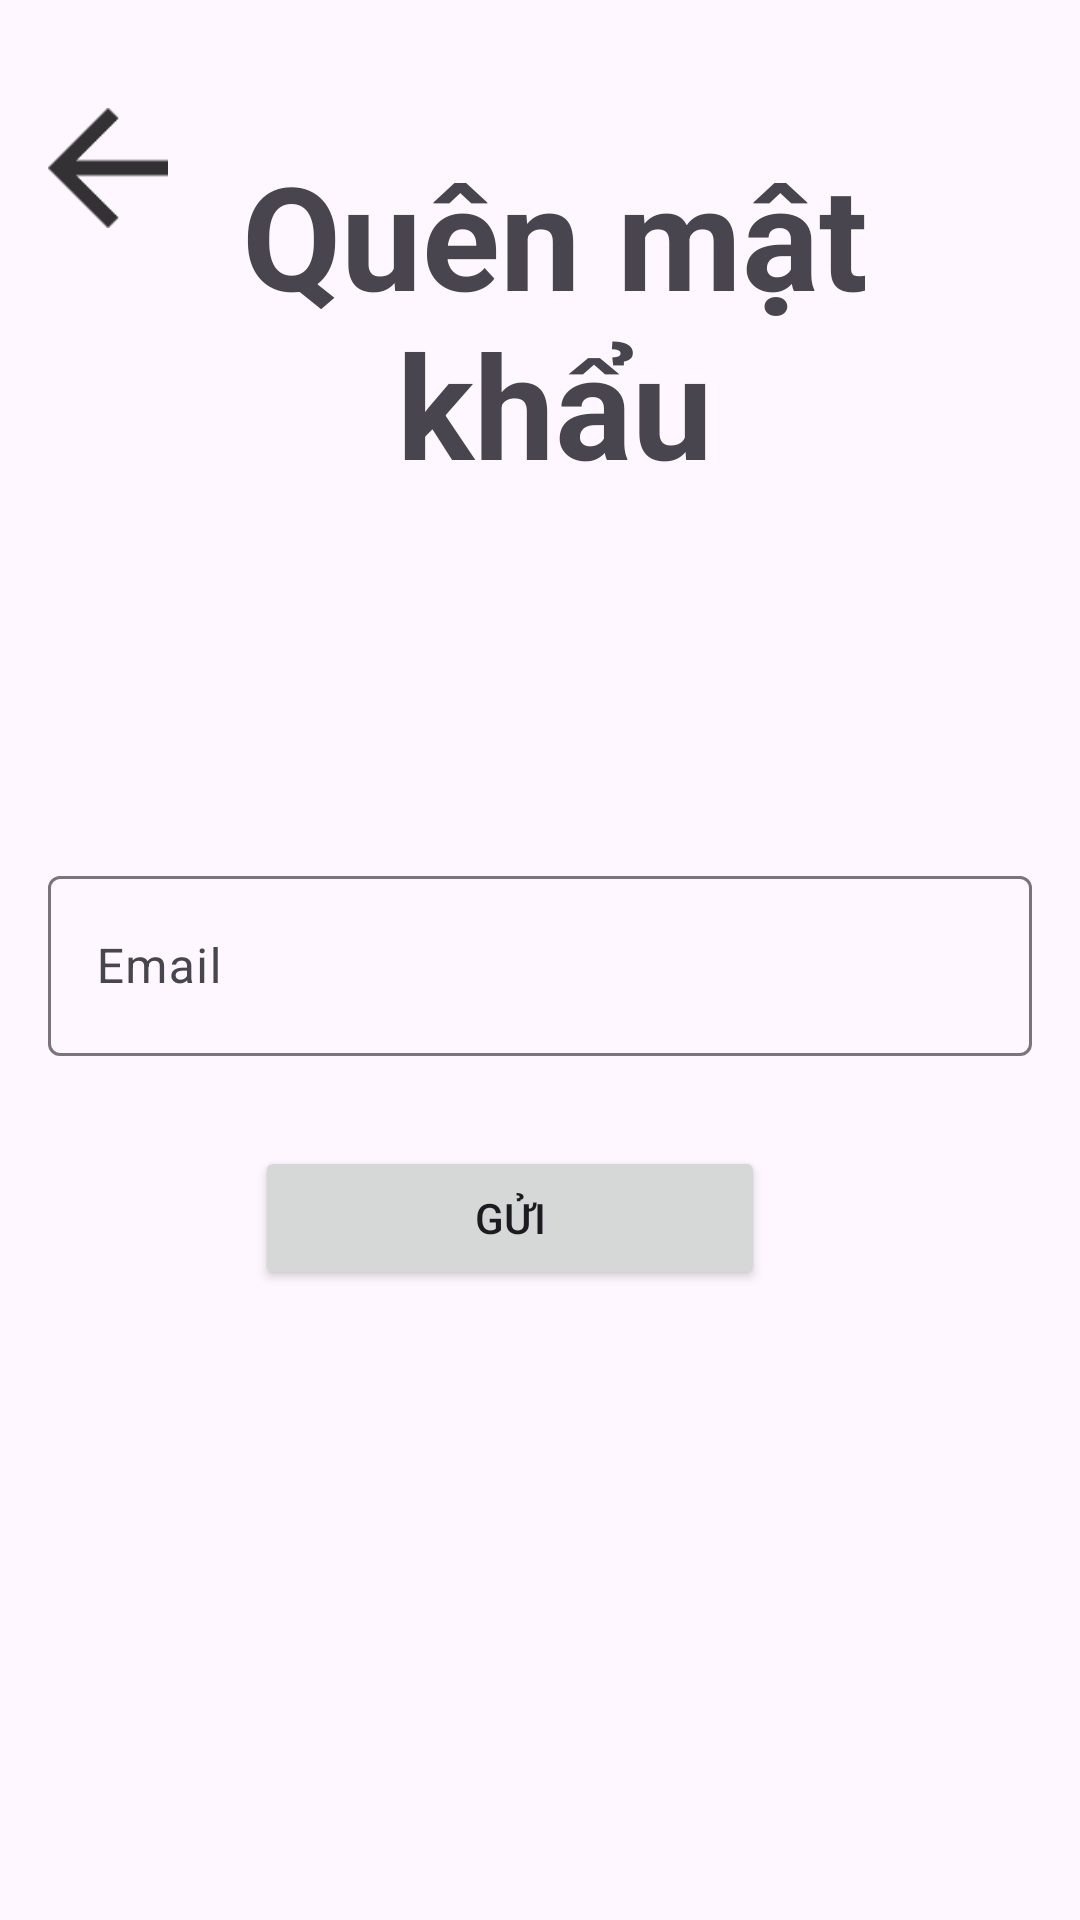

Icons on this 1080×1920 Android screen, each with its box as rect(x1, y1, x2, y2):
arrowback: rect(48, 108, 168, 228)
